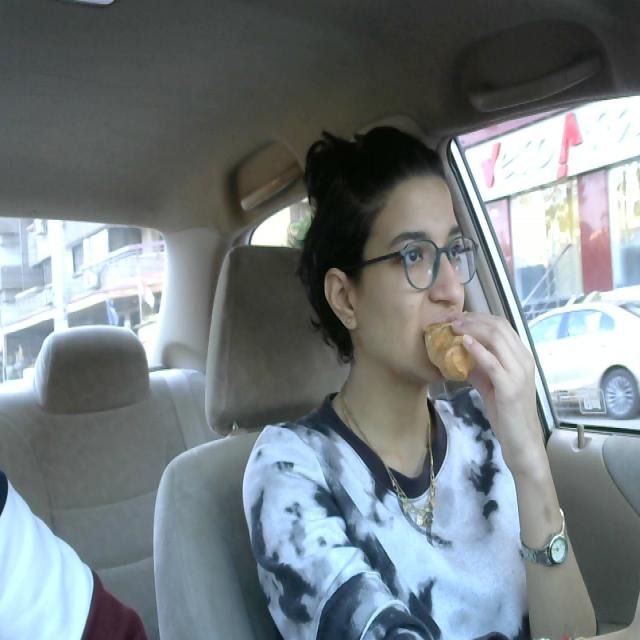eating: (420, 304, 486, 399)
